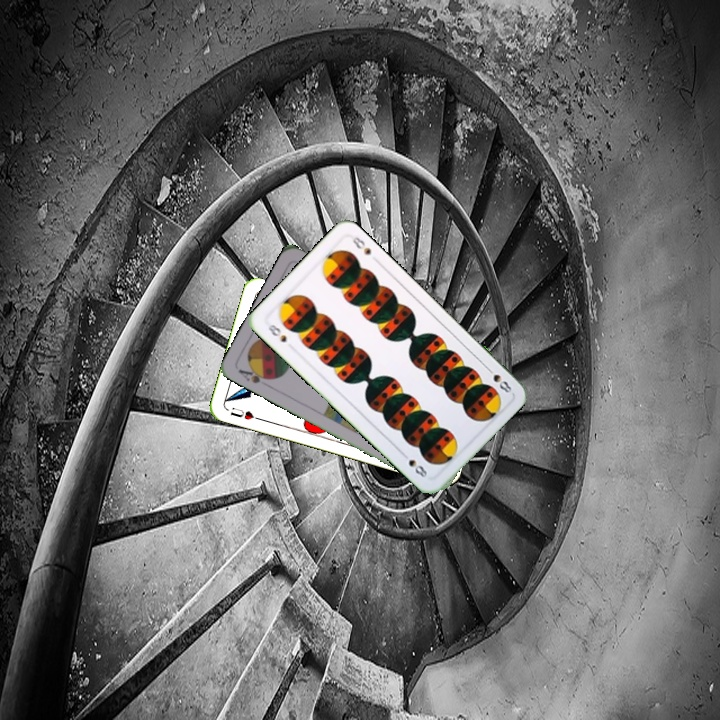HU: (226, 403, 263, 423)
S8: (481, 362, 514, 396), (262, 320, 289, 345)
SA: (234, 362, 275, 389)
